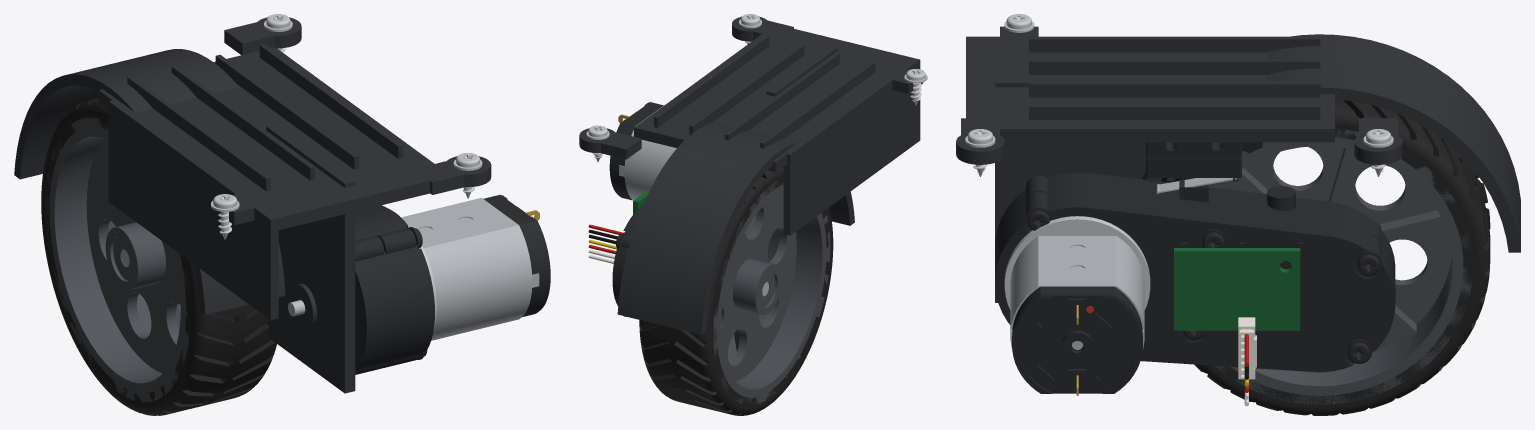
File: wheel-module.glb
3 renders of one model, left to right at view 1: azimuth 30°, elevation 25°; view 2: azimuth 150°, elevation 25°; view 3: azimuth 270°, elevation 25°, orthographic. The views are drawn at different scales.
Visible parts, largest first — view 1: frame, hub, tyre, can, lid_gearbox, arm_pivot, endcap, screw_7, screw_8; view 2: frame, hub, tyre, can, endcap, lid_gearbox, screw_7, screw_9; view 3: frame, lid_gearbox, hub, tyre, endcap, hall_pcb, arm_pivot, can, body, motor_plate, plug_housing, screw_9 (+4 smaller).
Boxes of the visible parts, x1,y1,x2,y2 form: frame: [14, 17, 491, 393]; hub: [45, 117, 189, 402]; tyre: [41, 98, 276, 415]; can: [401, 197, 539, 340]; lid_gearbox: [355, 205, 434, 367]; arm_pivot: [355, 217, 400, 374]; endcap: [483, 194, 550, 316]; screw_7: [211, 194, 239, 239]; screw_8: [453, 153, 482, 198]; frame: [579, 16, 923, 334]; hub: [713, 181, 830, 403]; tyre: [639, 167, 833, 415]; can: [619, 105, 676, 200]; endcap: [609, 102, 663, 200]; lid_gearbox: [612, 204, 643, 306]; screw_7: [904, 69, 927, 105]; screw_9: [586, 125, 609, 162]; frame: [956, 26, 1520, 302]; lid_gearbox: [995, 190, 1395, 372]; hub: [1208, 129, 1471, 404]; tyre: [1160, 99, 1490, 415]; endcap: [1012, 286, 1142, 393]; hall_pcb: [1174, 248, 1300, 330]; arm_pivot: [995, 172, 1395, 279]; can: [1010, 236, 1144, 349]; body: [1146, 142, 1241, 181]; motor_plate: [1004, 216, 1150, 309]; plug_housing: [1239, 329, 1256, 378]; screw_9: [1363, 129, 1393, 176].
Bounding box in the file's own units: 0.0885 × 0.078 × 0.1163.
